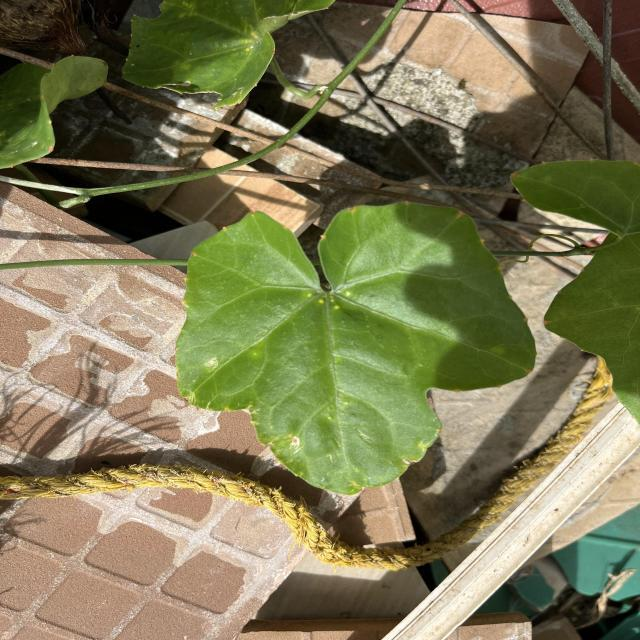Coccinia grandis: (173, 197, 540, 497)
